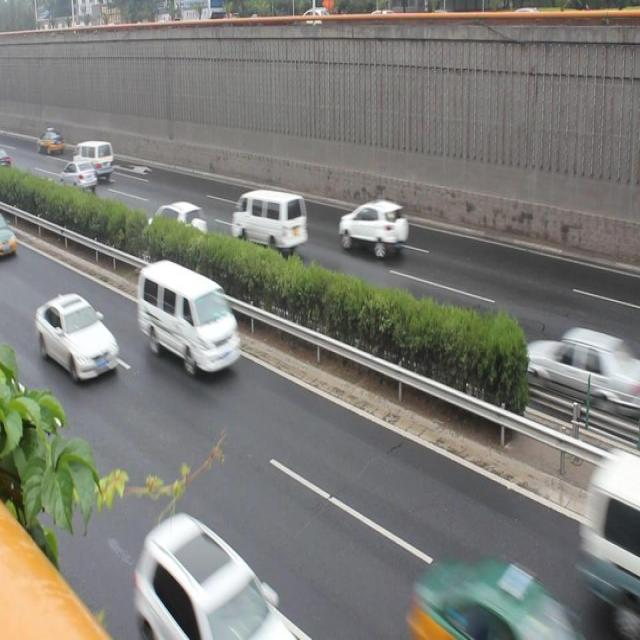car: (135, 513, 300, 640), (416, 548, 594, 640), (523, 317, 626, 427), (35, 287, 120, 392), (337, 193, 409, 257), (152, 197, 210, 253)
truck: (134, 258, 241, 386), (231, 187, 315, 257)
